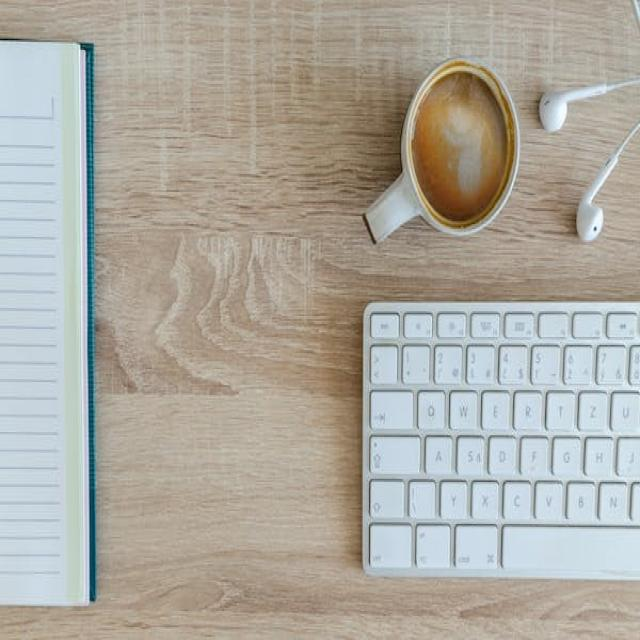Earphone: (537, 76, 640, 246)
